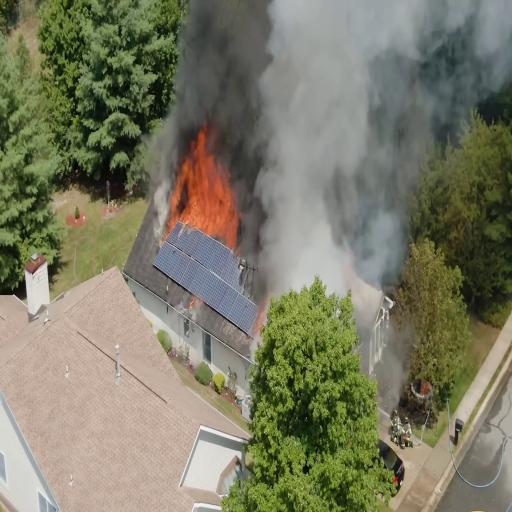fire: (167, 127, 244, 251)
smoke: (268, 16, 343, 282), (185, 2, 254, 113)
